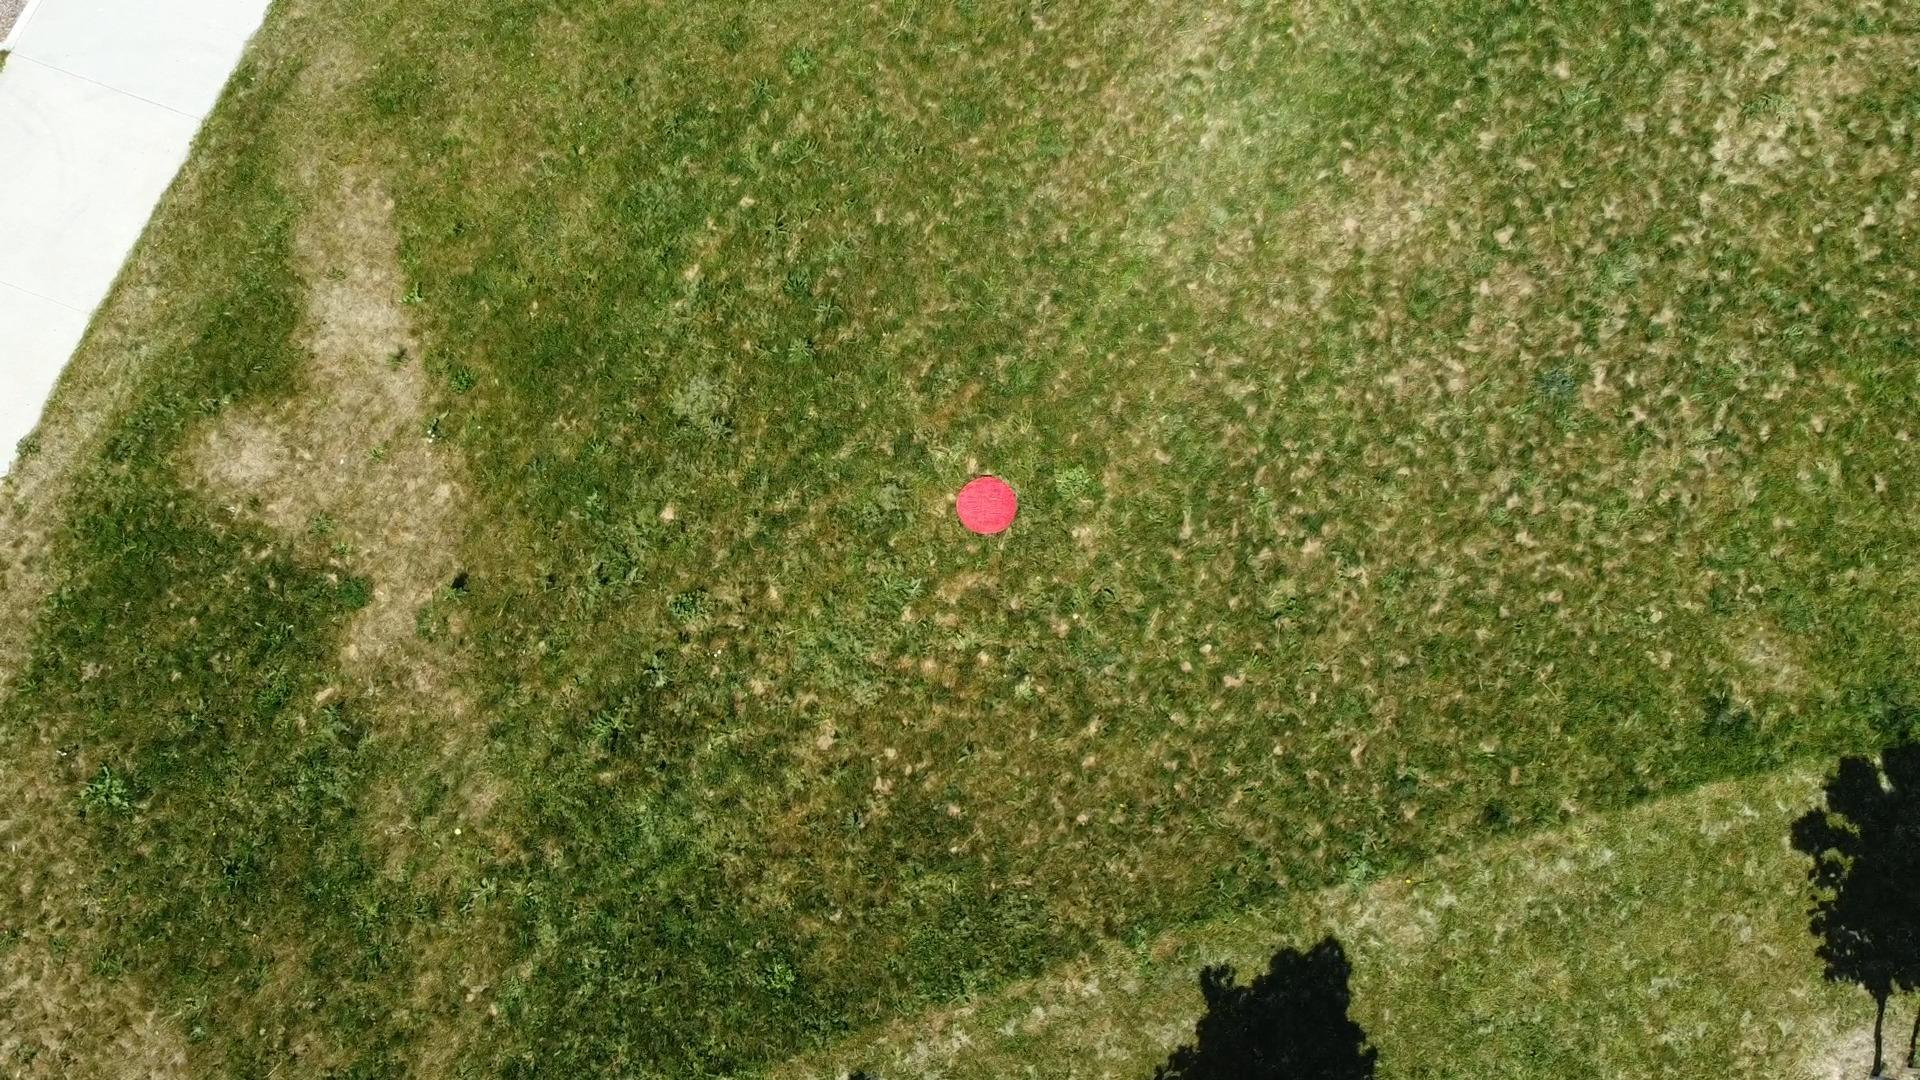Red: (955, 473, 1021, 539)
